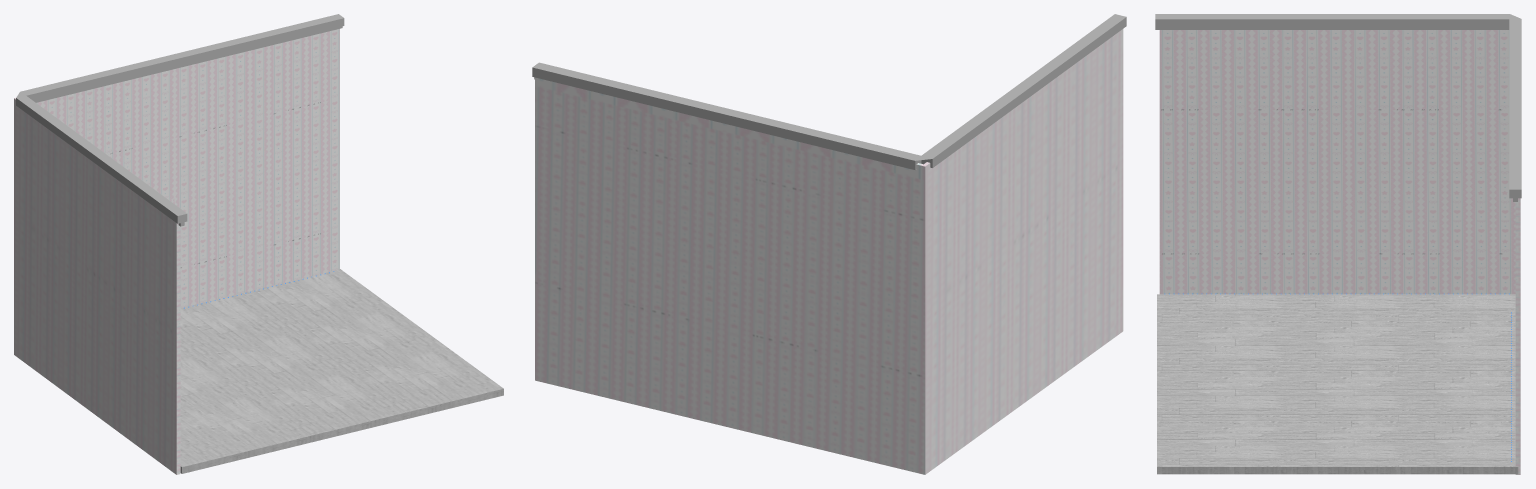
The model's file is wall_floor.gltf.
3 renders of one model, left to right at view 1: azimuth 30°, elevation 25°; view 2: azimuth 150°, elevation 25°; view 3: azimuth 270°, elevation 25°, orthographic. The views are drawn at different scales.
Visible parts, largest first — view 1: wall_floor; view 2: wall_floor; view 3: wall_floor.
Boxes of the visible parts, box(x1,y1,x2,y2) form: wall_floor: box(14, 14, 503, 474); wall_floor: box(532, 14, 1126, 474); wall_floor: box(1155, 14, 1521, 474).
Size of the model in its own units: 22.09 by 16.77 by 19.46.
